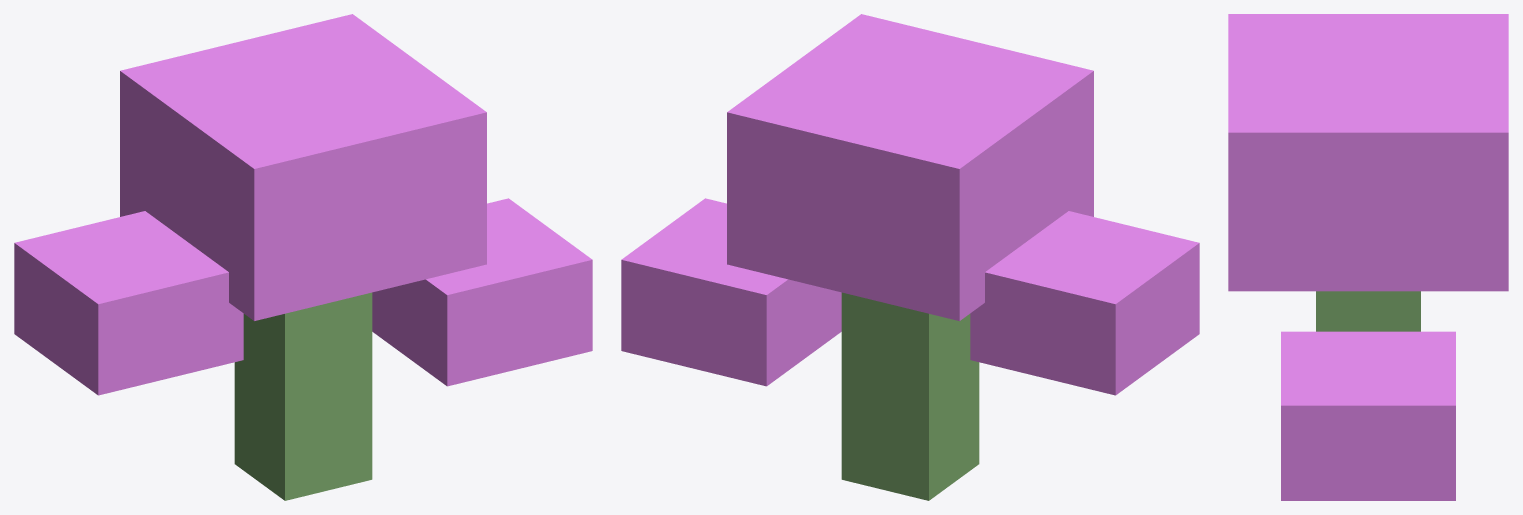
File: Prop_DS_Herb_SwapRoot_S1_V1.glb
The picture shows the model from 3 angles, left to right: view 1: azimuth 30°, elevation 25°; view 2: azimuth 150°, elevation 25°; view 3: azimuth 270°, elevation 25°; orthographic projection. The views are drawn at different scales.
Parts seen in each view (by area): view 1: Cube.003, Cube.002, Cube.001, Cube; view 2: Cube.003, Cube.002, Cube.001, Cube; view 3: Cube.003, Cube.001, Cube.
Boxes of the visible parts, x1,y1,x2,y2 form: Cube.003: [120, 14, 486, 320]; Cube.002: [14, 211, 243, 395]; Cube.001: [372, 198, 592, 386]; Cube: [234, 292, 372, 500]; Cube.003: [727, 14, 1093, 320]; Cube.002: [970, 211, 1199, 395]; Cube.001: [621, 198, 841, 386]; Cube: [841, 292, 979, 500]; Cube.003: [1228, 14, 1508, 291]; Cube.001: [1281, 331, 1455, 500]; Cube: [1316, 291, 1420, 331].
Bounding box in the file's own units: 0.34 × 0.25 × 0.16.
